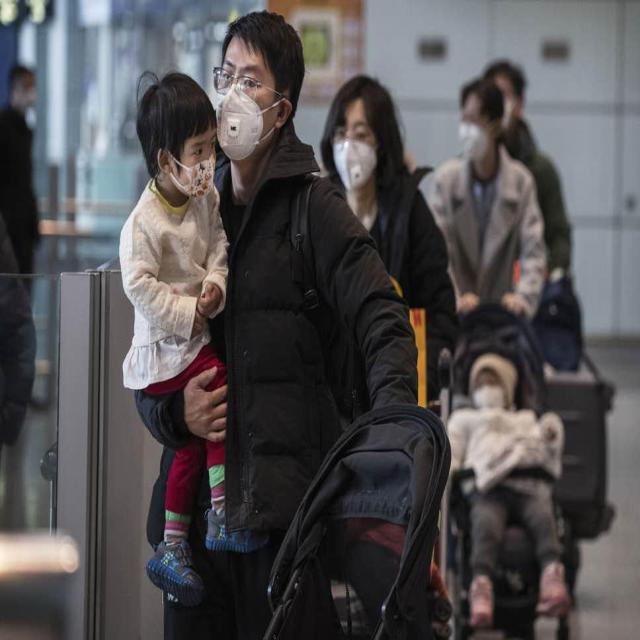face: (214, 5, 309, 167), (137, 63, 219, 208), (326, 70, 401, 202), (454, 71, 511, 168), (468, 350, 520, 416), (491, 74, 521, 132), (12, 73, 39, 115)
